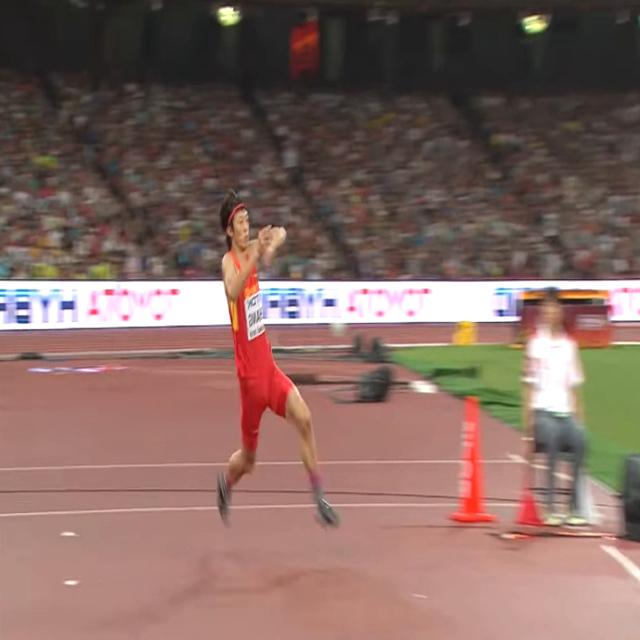run: (215, 188, 342, 532)
